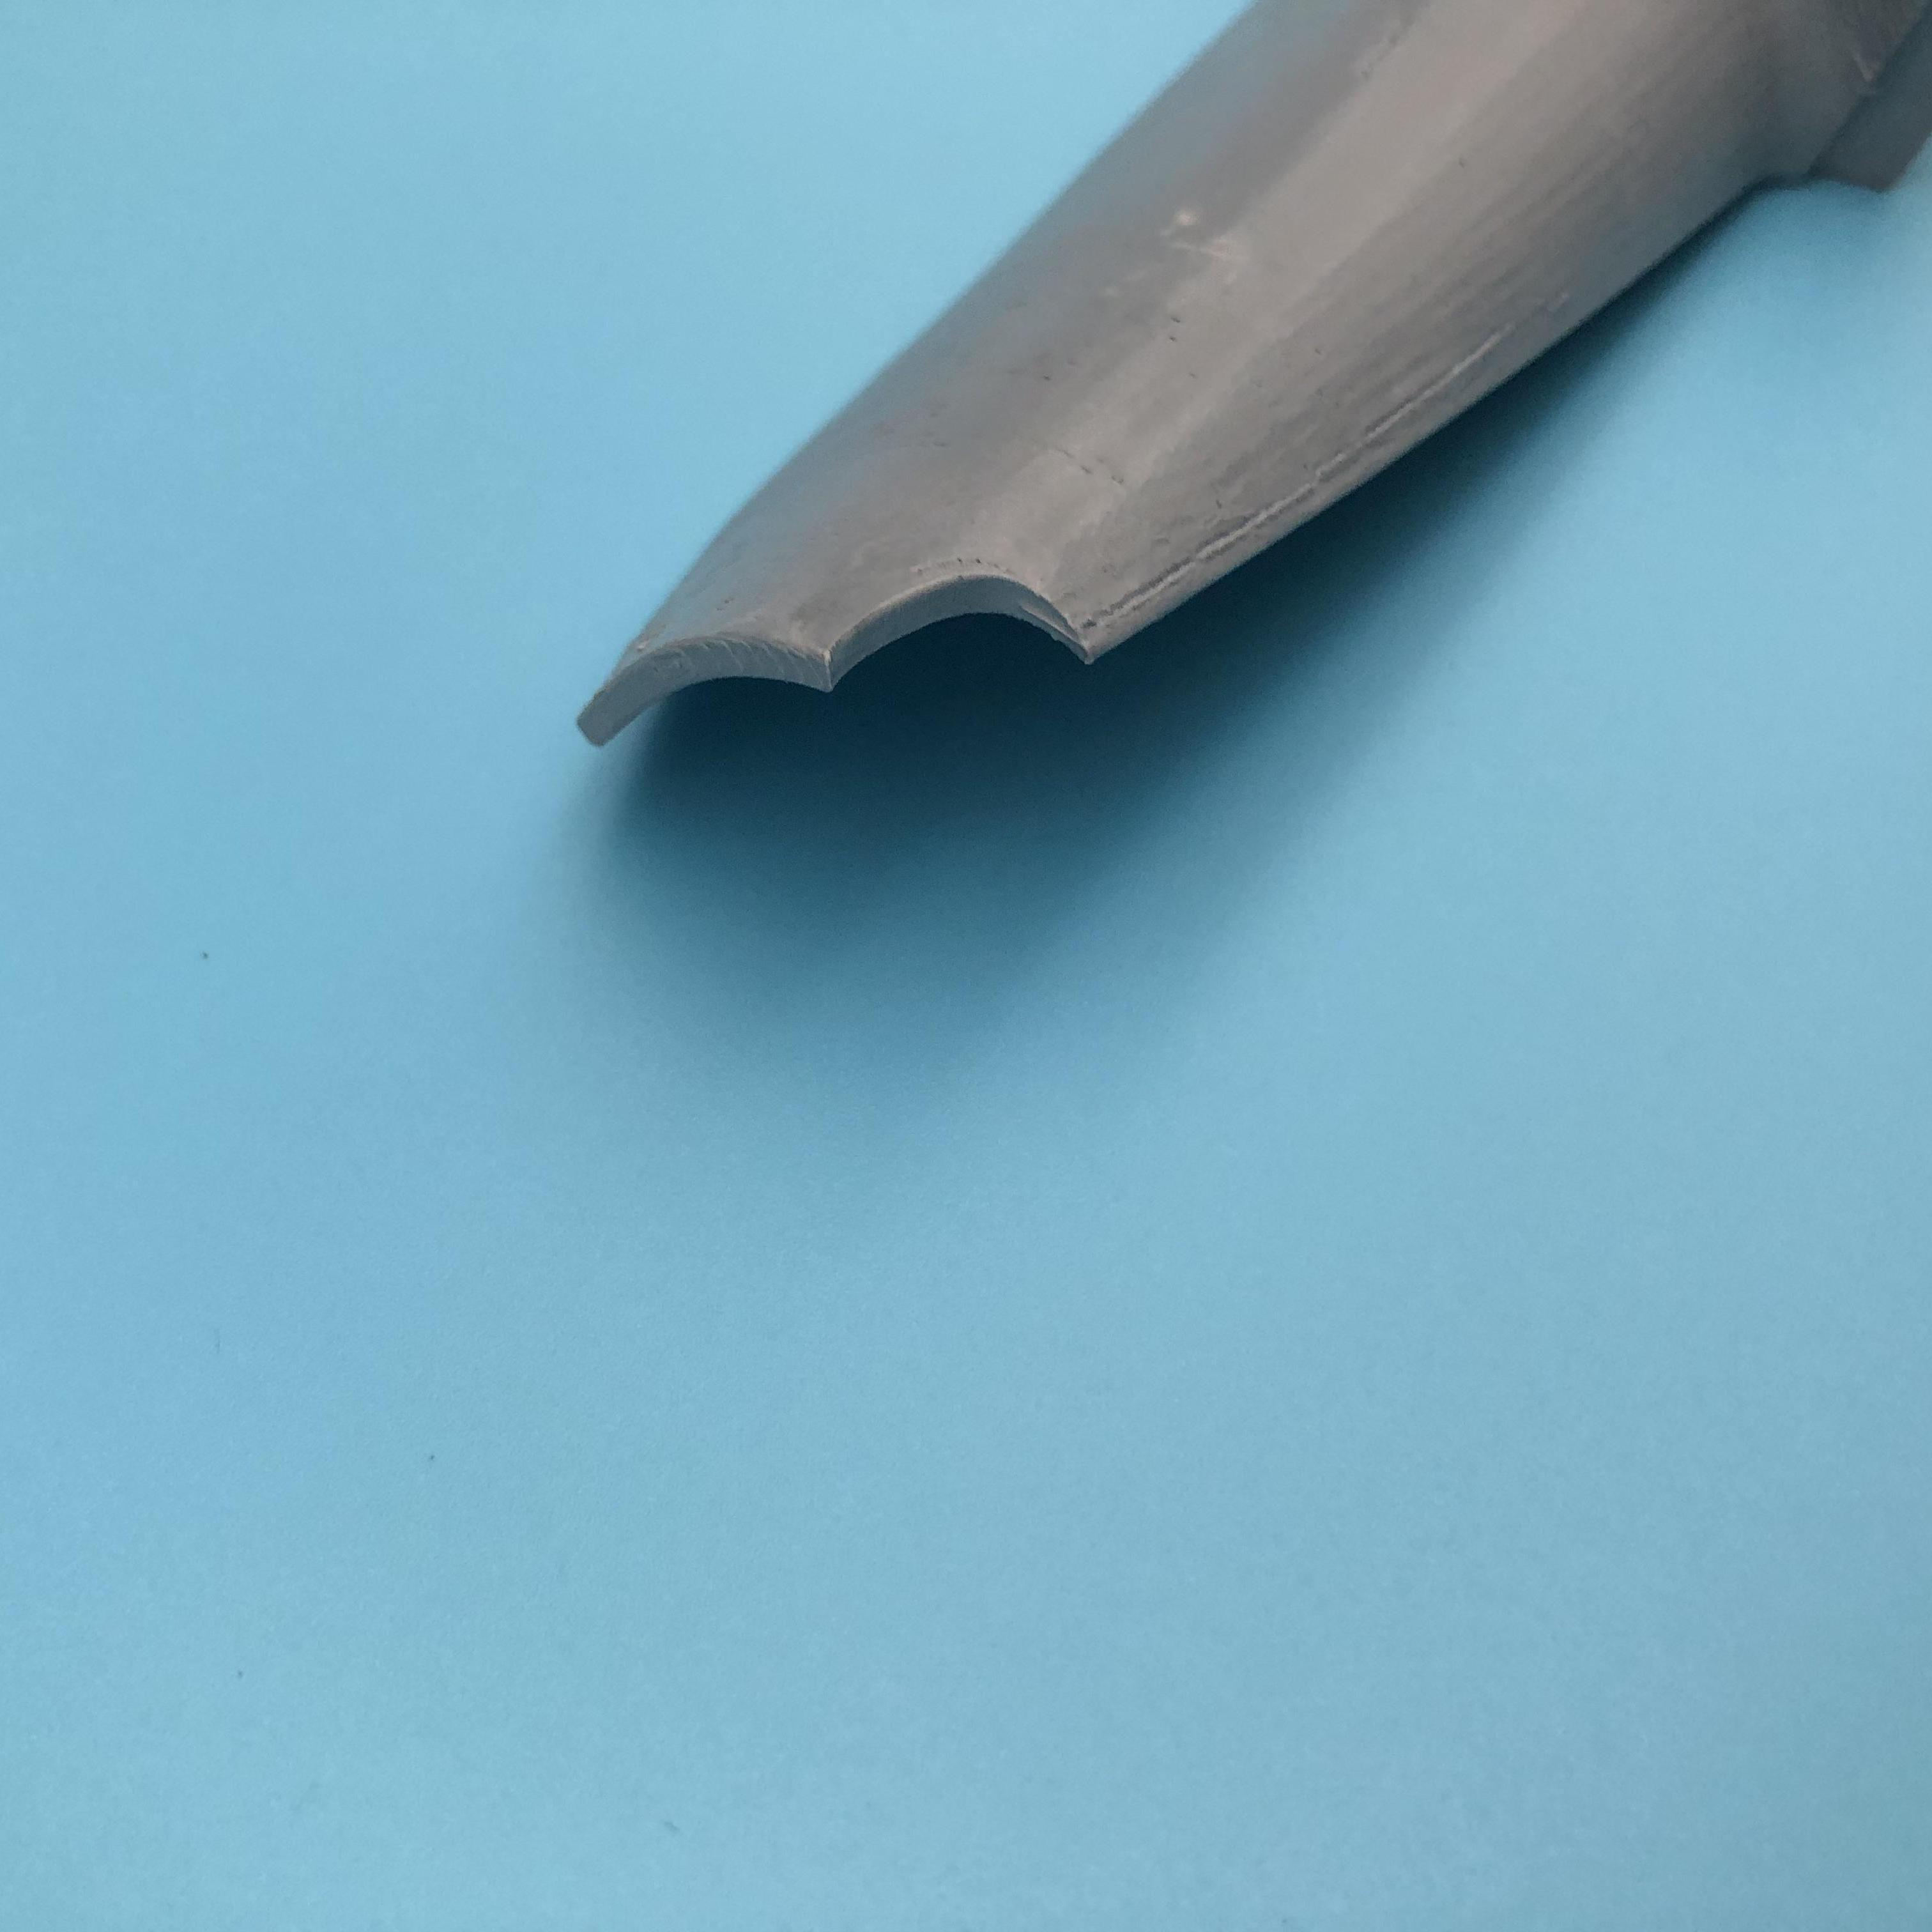fracture: (605, 587, 1100, 738)
